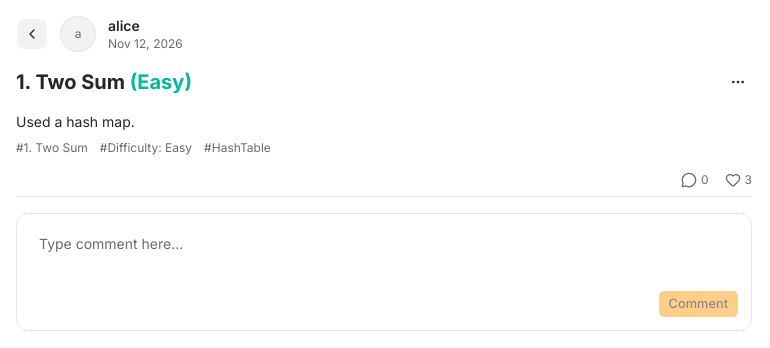
Scenario: PostDetail › like updates the post
Click the button "3" at (738, 180), box [725,172,752,188]
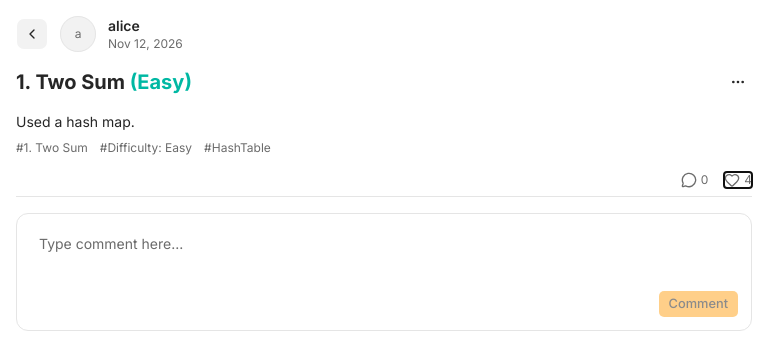
Result: the button "4" is shown at [724,172,752,188]
